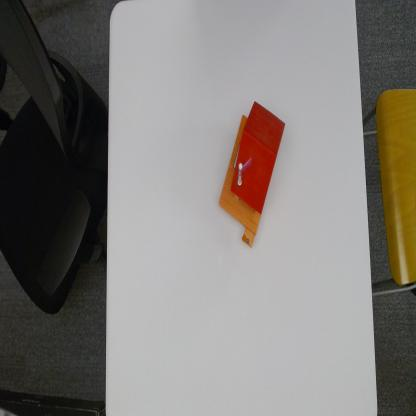House: (219, 98, 286, 249)
